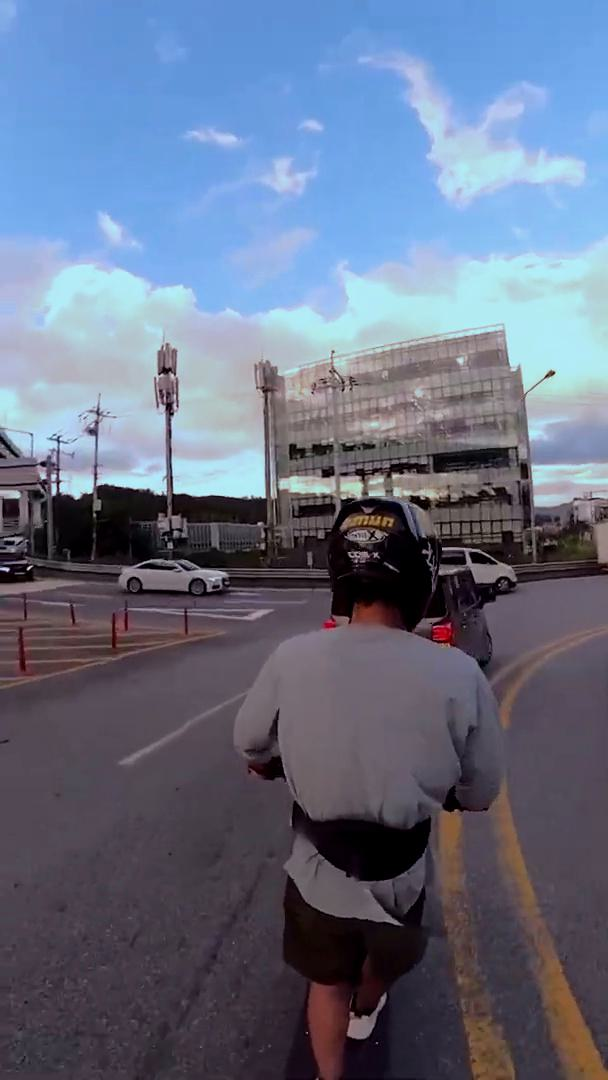helmet: (227, 497, 510, 1080)
